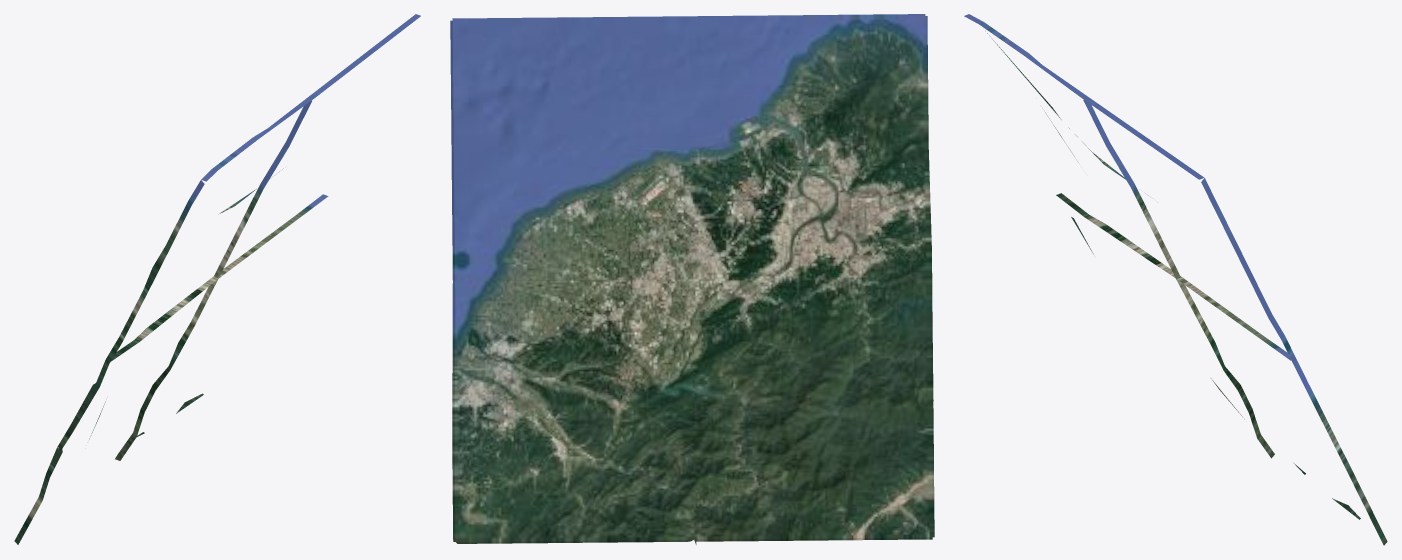
3 renders of one model, left to right at view 1: azimuth 30°, elevation 25°; view 2: azimuth 150°, elevation 25°; view 3: azimuth 270°, elevation 25°, orthographic. The views are drawn at different scales.
Bounding box in the file's own units: 79101 × 71607 × 66395.
Materials: 1 (1 with a texture image).
